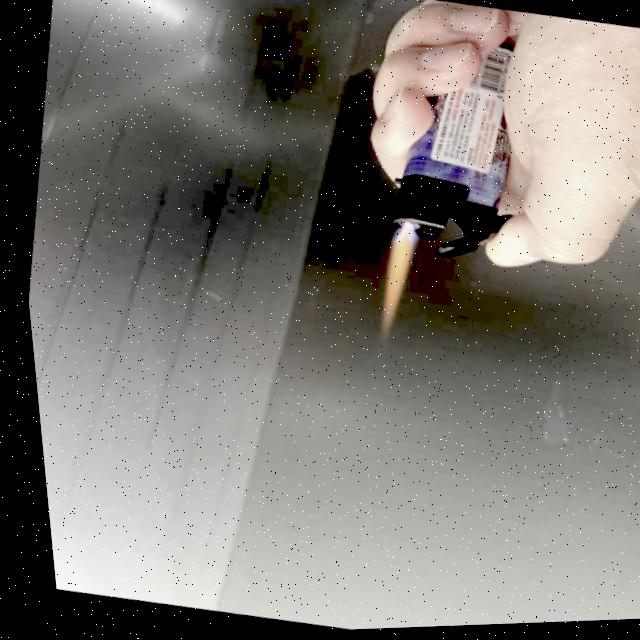Fire: (364, 221, 423, 342)
